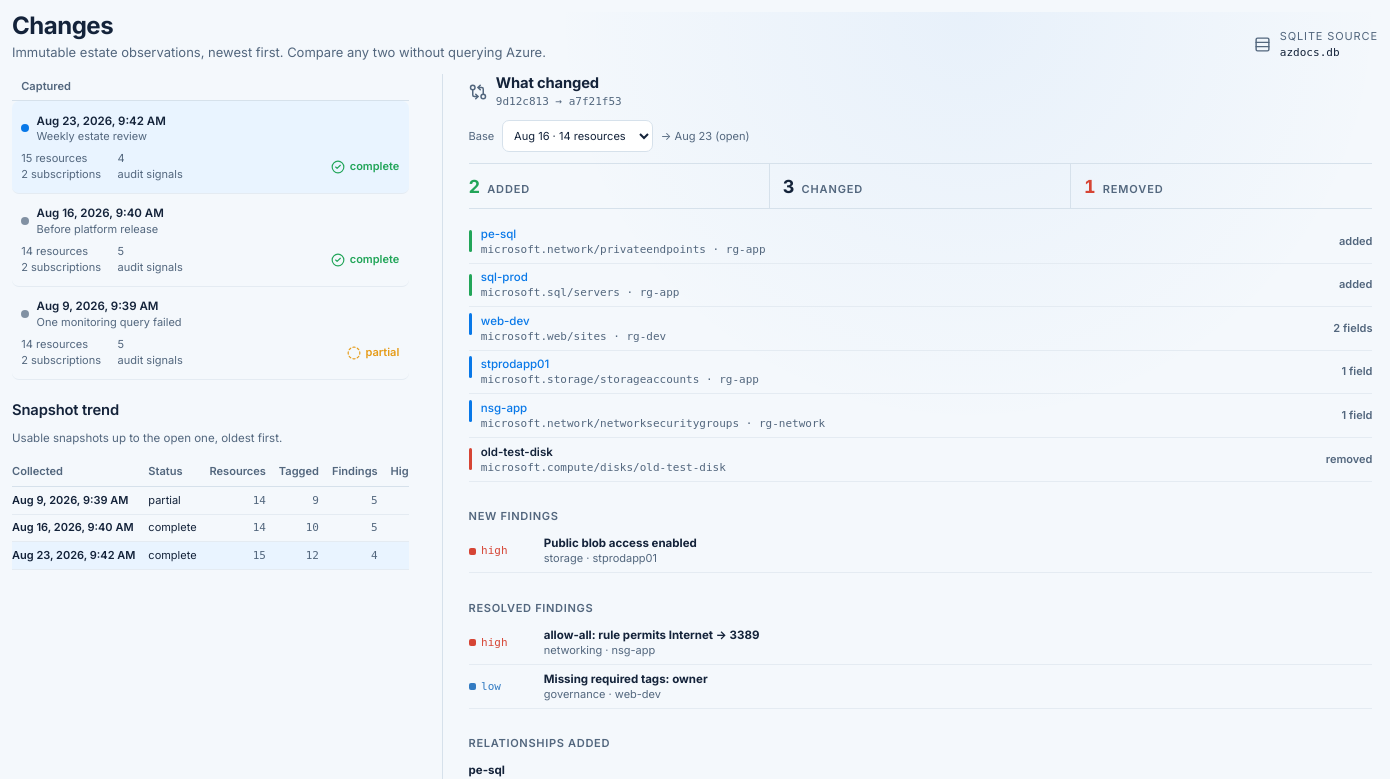
Test case: HistoryView › keeps the last good comparison and says why a new one failed
Select "Aug 09 · 14 resources" in the dropdown named "Base snapshot to compare against" at (578, 136), box [502,120,654,152]
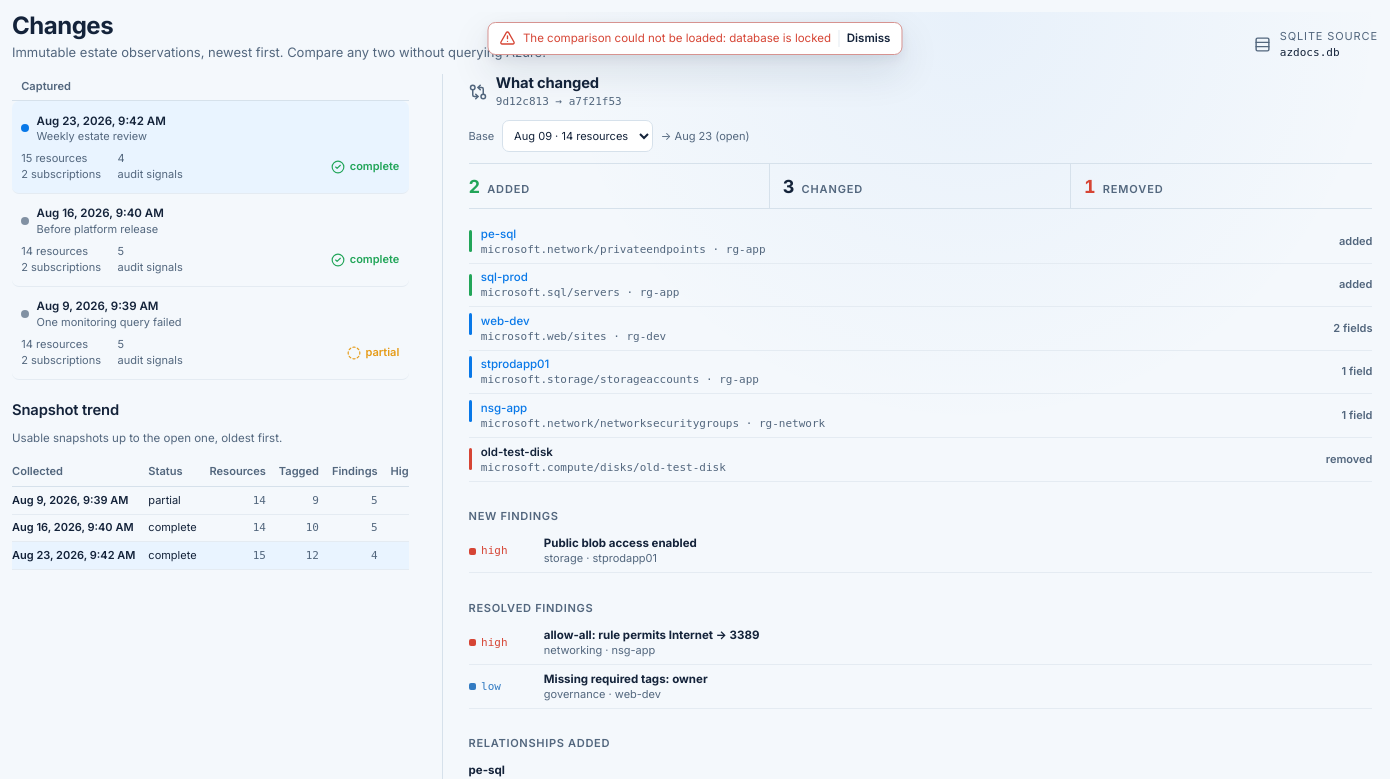
Expected: the message shows "database is locked", [523,31,831,45]
Click the button "Dismiss".
click(864, 38)  # box [838,30,890,46]
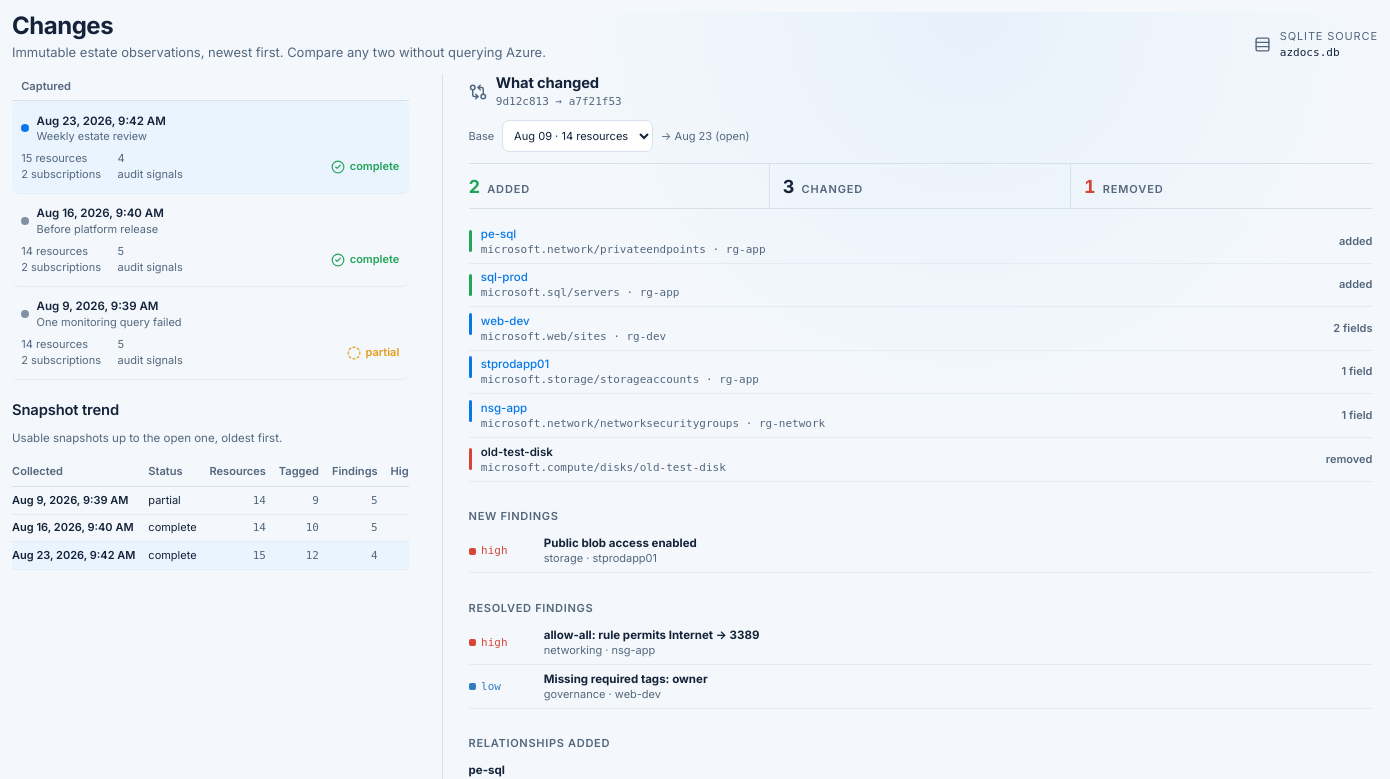
Expected: the message "The comparison could not be loaded: database is locked Dismiss" is gone
